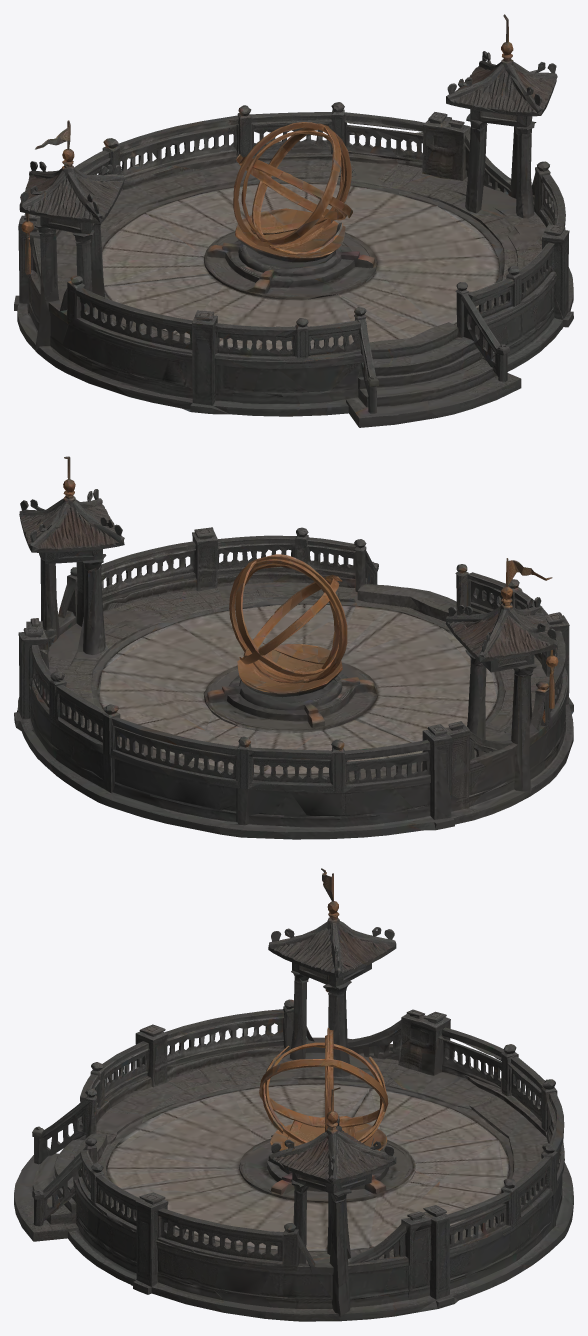
The model's file is observatory.glb.
3 renders of one model, top to bottom at view 1: azimuth 30°, elevation 25°; view 2: azimuth 150°, elevation 25°; view 3: azimuth 270°, elevation 25°, orthographic.
Bounding box in the file's own units: 1.9 × 0.7751 × 1.75.
1 material, 1 textured.
